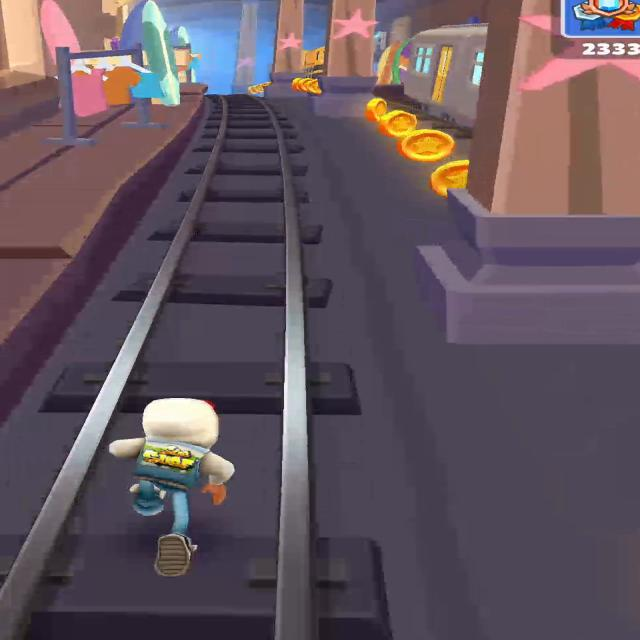block pillar: (419, 0, 639, 344), (312, 0, 376, 117), (267, 0, 305, 100), (232, 0, 257, 92)
train: (401, 23, 487, 127)
